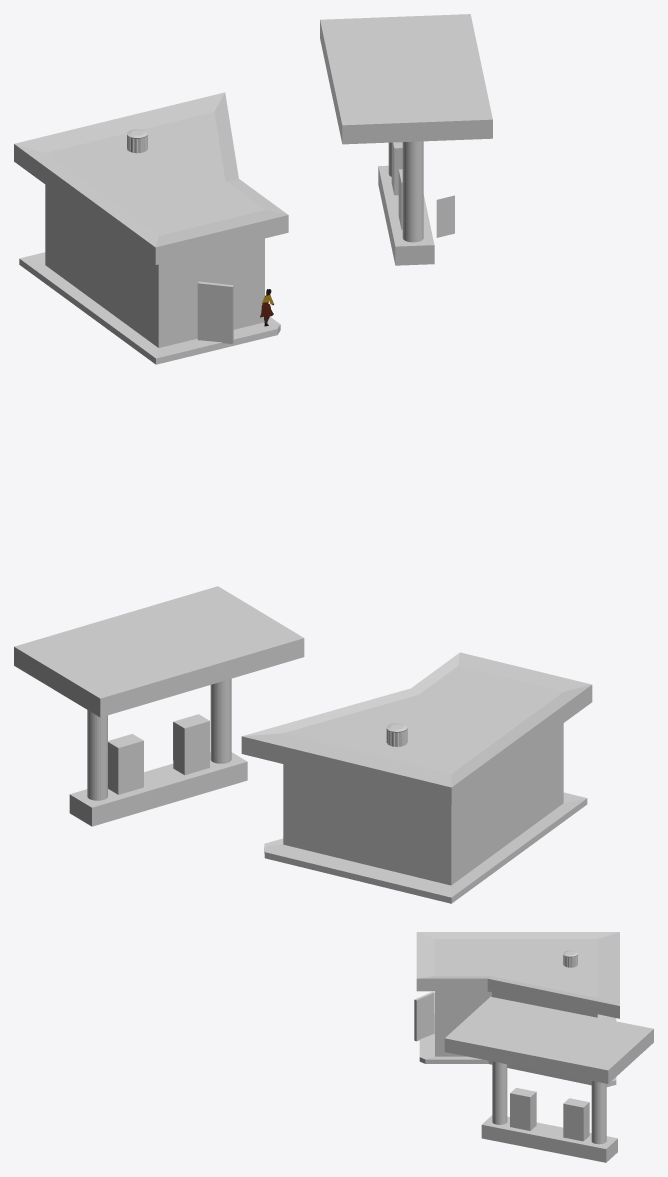
Rendered from test_scene__5__unset_origin.fbx.
The picture shows the model from 3 angles, top to bottom: view 1: azimuth 30°, elevation 25°; view 2: azimuth 150°, elevation 25°; view 3: azimuth 270°, elevation 25°; orthographic projection. The views are drawn at different scales.
Parts seen in each view (by area): view 1: Cube.009, Cube.011, Cube.012, Cylinder.005, Cube.010, Plane.012; view 2: Cube.009, Cube.011, Cube.012, Cylinder.006, Cylinder.005; view 3: Cube.009, Cube.011, Cube.012, Cylinder.005, Cylinder.006, Cube.010.
Part boxes in pixels (x1,y1,x2,y2): Cube.009: [14, 92, 288, 364]; Cube.011: [320, 14, 492, 144]; Cube.012: [378, 142, 434, 265]; Cylinder.005: [402, 141, 423, 242]; Cube.010: [197, 281, 233, 343]; Plane.012: [436, 195, 454, 237]; Cube.009: [241, 652, 592, 903]; Cube.011: [14, 586, 304, 717]; Cube.012: [69, 714, 247, 826]; Cylinder.006: [87, 710, 107, 800]; Cylinder.005: [210, 678, 231, 763]; Cube.009: [416, 932, 619, 1086]; Cube.011: [444, 996, 653, 1083]; Cube.012: [481, 1087, 617, 1162]; Cylinder.005: [492, 1061, 507, 1124]; Cylinder.006: [591, 1081, 606, 1144]; Cube.010: [414, 991, 434, 1041].
Size of what is drawn, in the model's own units: 4920 by 1628 by 8463.
